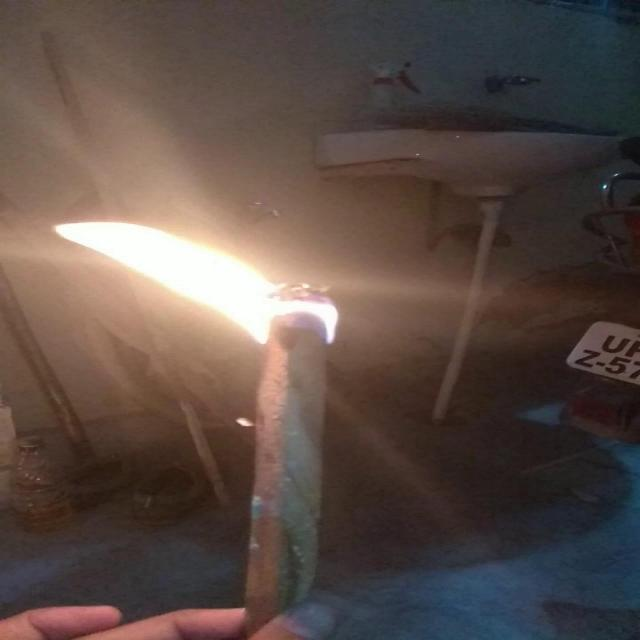fire: (27, 191, 335, 348)
